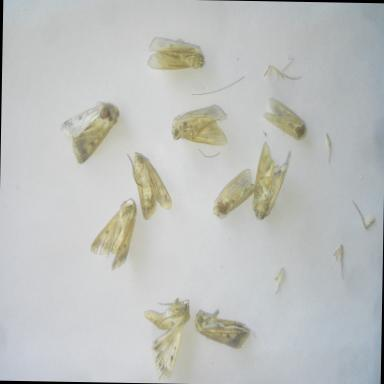abw: (140, 293, 193, 384), (57, 96, 122, 168), (247, 138, 294, 228), (88, 194, 140, 274), (124, 148, 176, 224), (192, 307, 260, 356), (208, 164, 262, 224), (143, 28, 210, 76), (168, 100, 231, 149), (260, 94, 311, 144)
